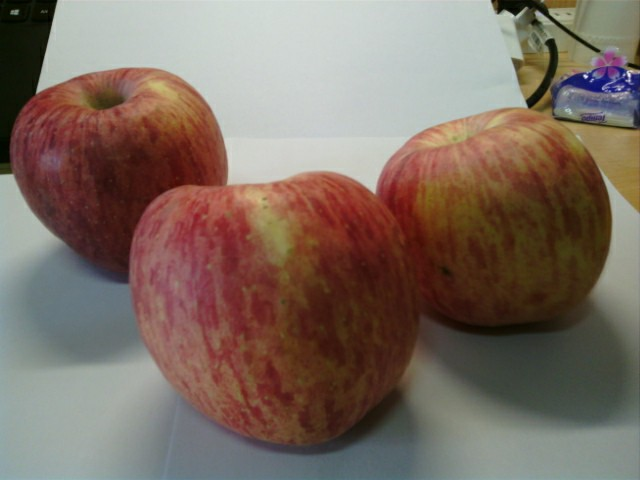normal_apple: (127, 171, 417, 452), (372, 104, 615, 337), (8, 69, 229, 277)
